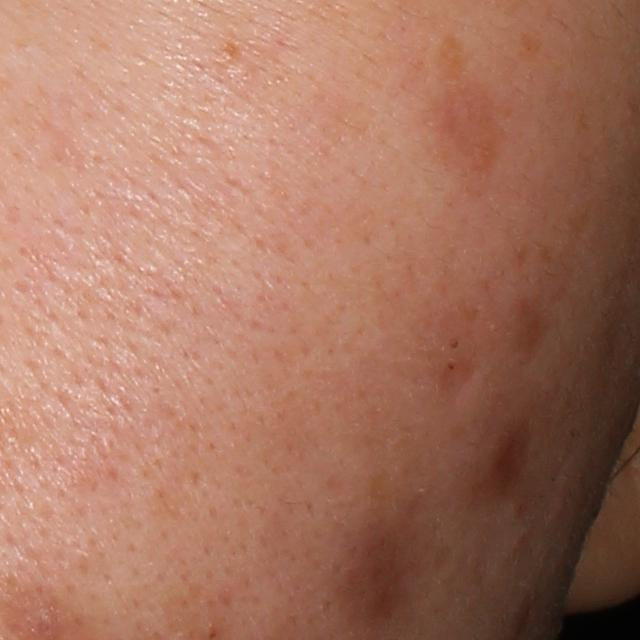atrophic_scar: (504, 299, 556, 379), (485, 421, 533, 501), (436, 353, 481, 408)
melasma: (426, 35, 502, 187)
